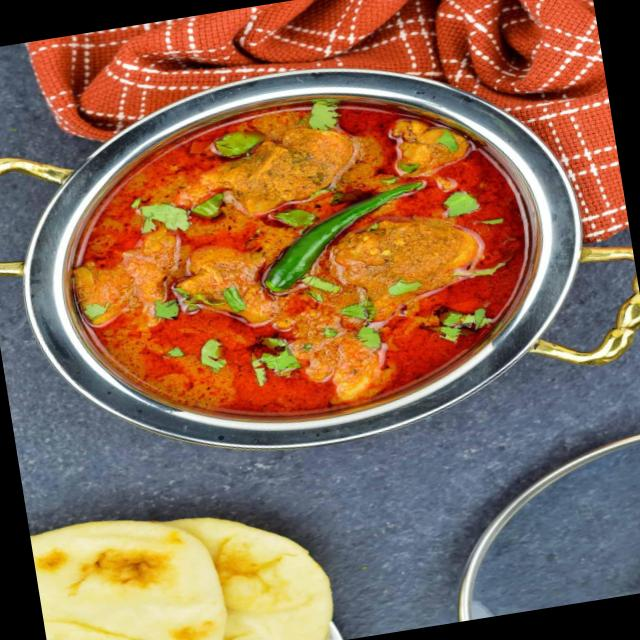chicken: (47, 78, 543, 452)
roti: (32, 502, 323, 640)
